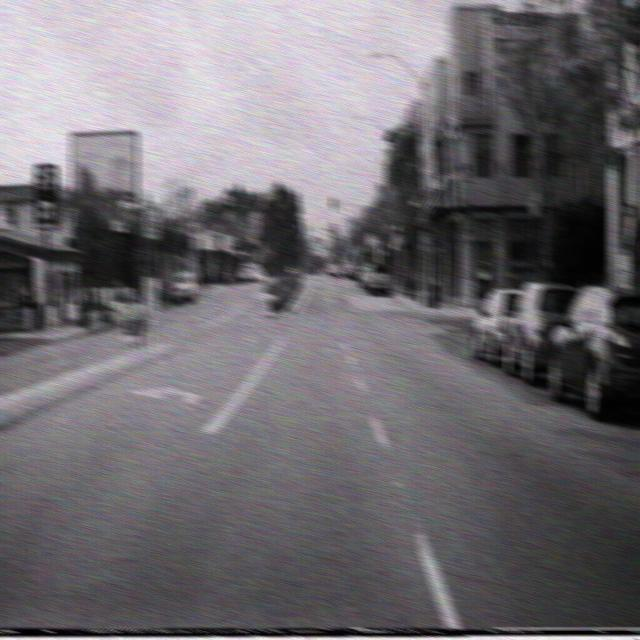speedLimit35: (142, 198, 162, 238), (419, 230, 432, 252)
